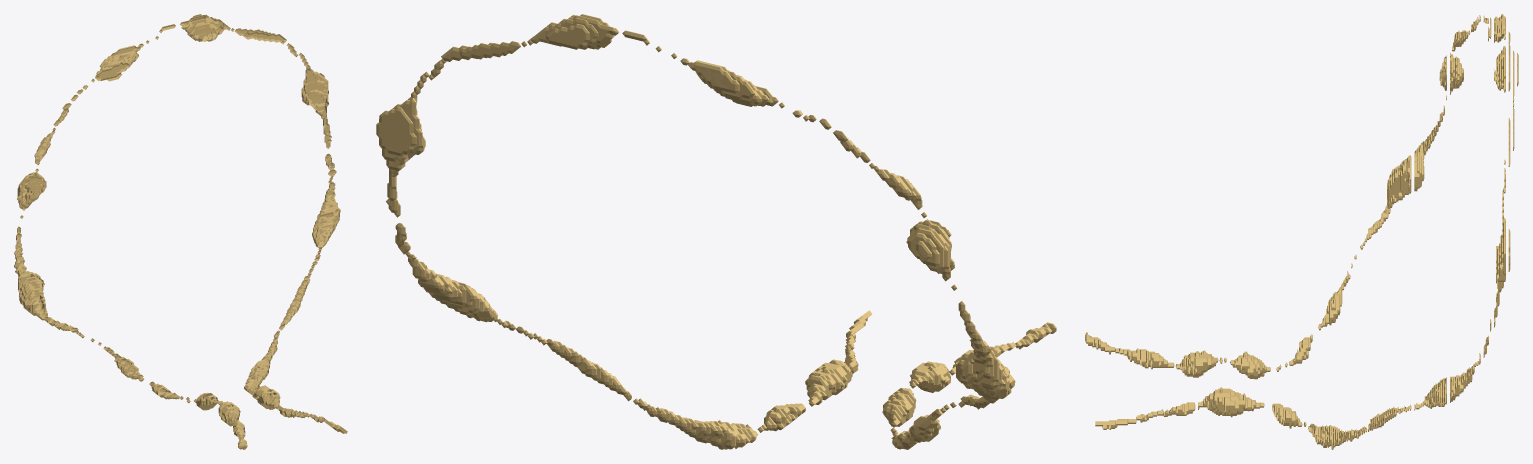
Rendered from SVV_AVKR.gltf.
3 renders of one model, left to right at view 1: azimuth 30°, elevation 25°; view 2: azimuth 150°, elevation 25°; view 3: azimuth 270°, elevation 25°, orthographic. The views are drawn at different scales.
Parts seen in each view (by area): view 1: AVKR; view 2: AVKR; view 3: AVKR.
Part boxes in pixels (bbox=[...]): AVKR: bbox=[14, 14, 347, 449]; AVKR: bbox=[376, 14, 1056, 449]; AVKR: bbox=[1085, 14, 1518, 449].
Bounding box in the file's own units: 94256 × 81455 × 79291.
